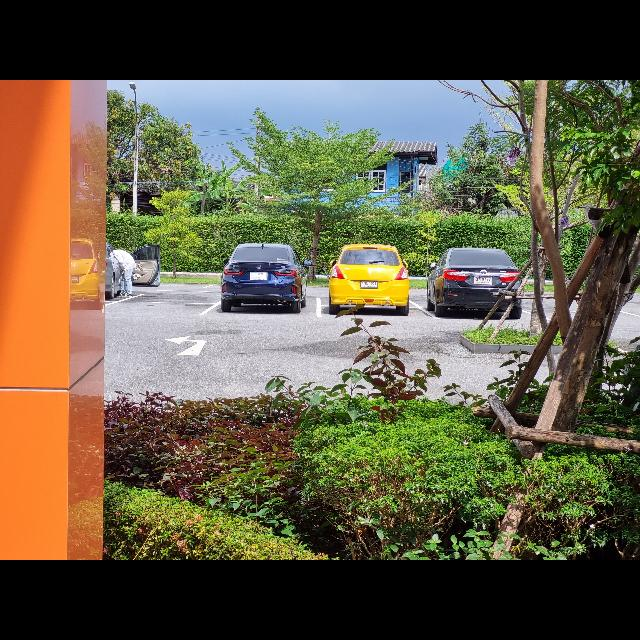licenseplate: (250, 272, 268, 280), (360, 280, 378, 288), (474, 276, 492, 284)
